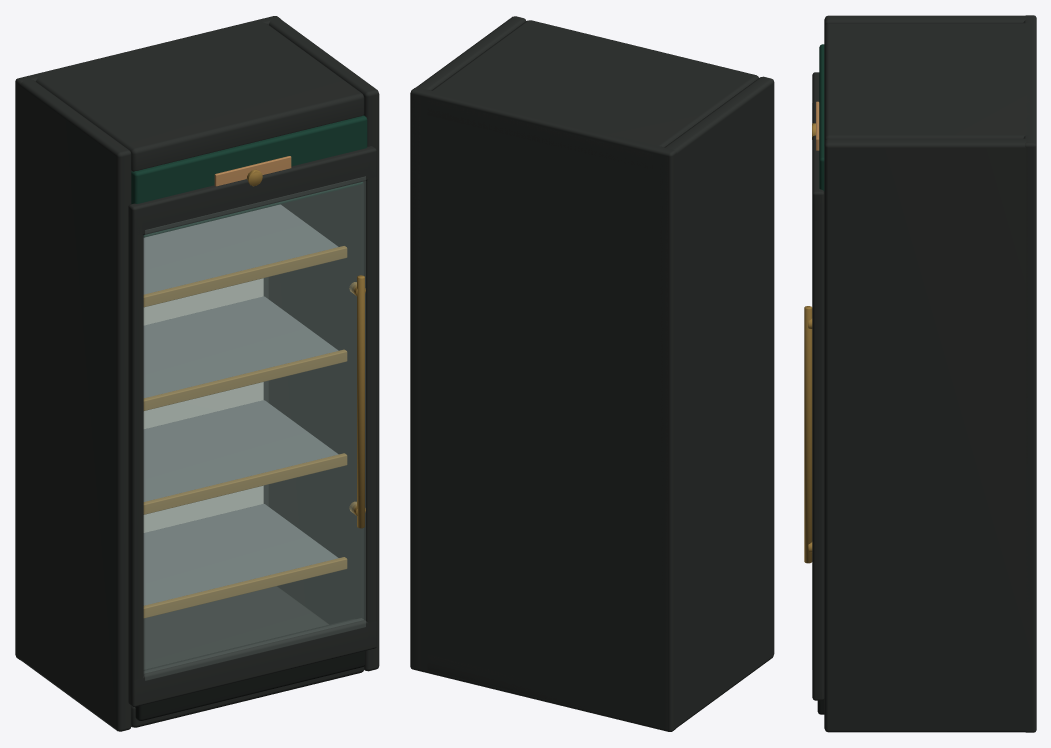
The model's file is pine_hills_opening_drinks_cooler_v1.glb.
The picture shows the model from 3 angles, left to right: view 1: azimuth 30°, elevation 25°; view 2: azimuth 150°, elevation 25°; view 3: azimuth 270°, elevation 25°; orthographic projection.
Parts seen in each view (by area): view 1: MESH_COOLER_DoorGlass, MESH_CoolerSideLeft, MESH_CoolerTop, MESH_CoolerSideRight, MESH_CoolerShelf_03, MESH_CoolerShelf_01, MESH_CoolerShelf_02, MESH_CoolerBase, MESH_CoolerShelf_04, MESH_COOLER_DoorFrameBottom, MESH_CoolerHeader, MESH_COOLER_DoorFrameTop (+11 smaller); view 2: MESH_CoolerBack, MESH_CoolerSideLeft, MESH_CoolerTop, MESH_CoolerSideRight, MESH_CoolerBase; view 3: MESH_CoolerSideRight, MESH_CoolerTop, MESH_CoolerBack, MESH_COOLER_DoorFrameRight, MESH_COOLER_DoorHandle, MESH_CoolerSideLeft, MESH_COOLER_DoorFrameTop, MESH_CoolerHeader.
Boxes of the visible parts, x1,y1,x2,y2 form: MESH_COOLER_DoorGlass: [144, 177, 365, 680]; MESH_CoolerSideLeft: [16, 77, 131, 731]; MESH_CoolerTop: [35, 20, 364, 171]; MESH_CoolerSideRight: [268, 16, 379, 671]; MESH_CoolerShelf_03: [143, 296, 338, 397]; MESH_CoolerShelf_01: [143, 504, 338, 605]; MESH_CoolerShelf_02: [143, 400, 338, 501]; MESH_CoolerBase: [131, 586, 364, 727]; MESH_CoolerShelf_04: [143, 204, 337, 294]; MESH_COOLER_DoorFrameBottom: [128, 618, 376, 706]; MESH_CoolerHeader: [131, 115, 367, 237]; MESH_COOLER_DoorFrameTop: [128, 146, 376, 235]; MESH_CoolerBack: [410, 87, 676, 731]; MESH_CoolerSideLeft: [660, 76, 774, 729]; MESH_CoolerTop: [427, 20, 758, 168]; MESH_CoolerSideRight: [412, 16, 525, 668]; MESH_CoolerBase: [427, 654, 581, 707]; MESH_CoolerSideRight: [824, 138, 1032, 732]; MESH_CoolerTop: [824, 23, 1031, 141]; MESH_CoolerBack: [1023, 15, 1036, 732]; MESH_COOLER_DoorFrameRight: [812, 203, 824, 689]; MESH_COOLER_DoorHandle: [804, 306, 812, 563]; MESH_CoolerSideLeft: [824, 15, 1032, 26]; MESH_COOLER_DoorFrameTop: [812, 72, 824, 220]; MESH_CoolerHeader: [819, 44, 824, 191].
Size of the model in its own units: 0.9 by 1.9 by 0.679.
